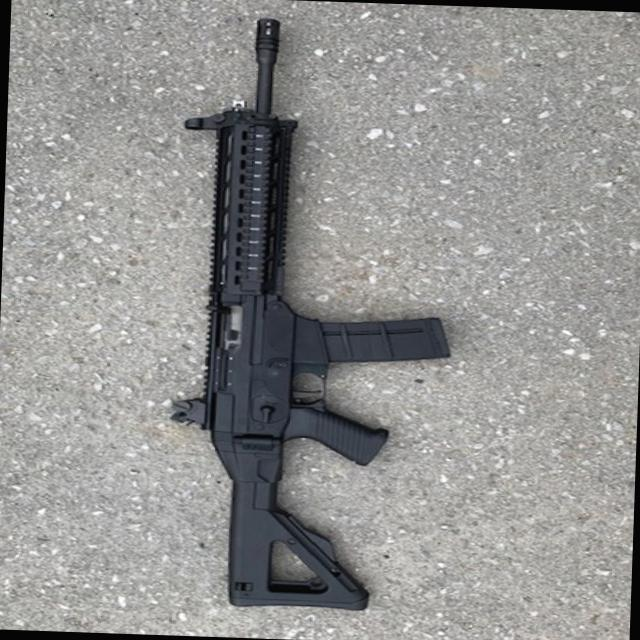long weapon: (154, 13, 438, 620)
